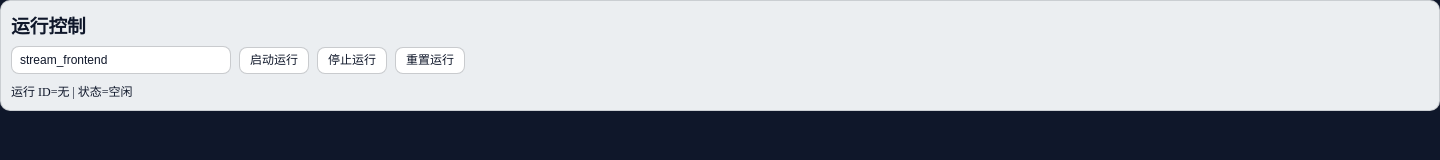
RunControlPanel › shows create-run error for 422 response (error path)
Click the button "启动运行": (274, 61) 239,47 -> 309,74
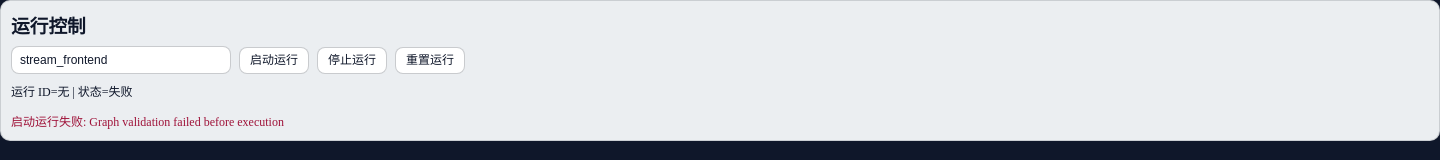
Check: the text with test id "run-control-error" shows "启动运行失败", box 11,115 -> 284,129
